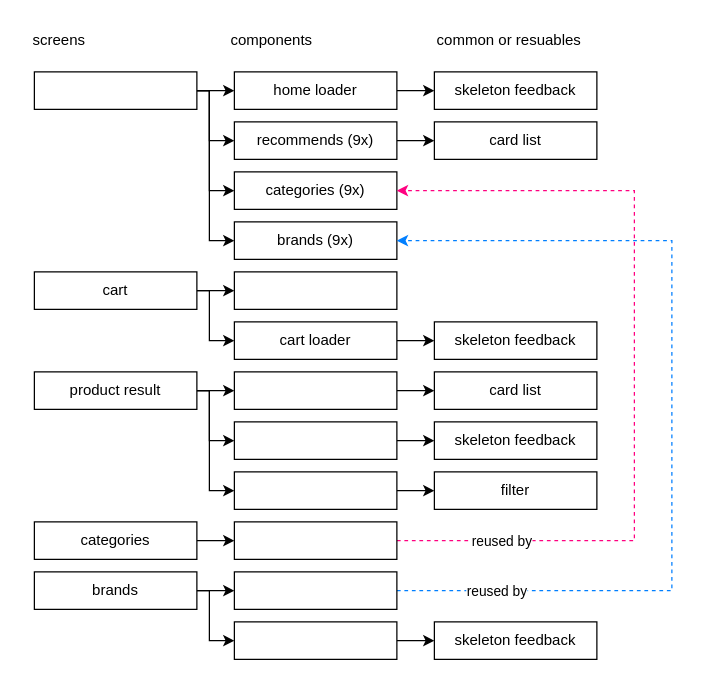
This 704x681 diagram has some shape labels left out. The shapes that lost their labels are listed below. From the top down, each one's centre as x and y in pixels, then its label:
At (x=115, y=90): "home".
At (x=315, y=290): "cart list (custom)".
At (x=315, y=390): "product list".
At (x=315, y=440): "product result loader".
At (x=315, y=490): "products filter".
At (x=315, y=540): "category list (custom)".
At (x=315, y=590): "brand list (custom)".
At (x=315, y=640): "brand loader".
